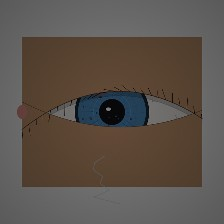foreign_body_visible: (81, 74, 117, 102)
